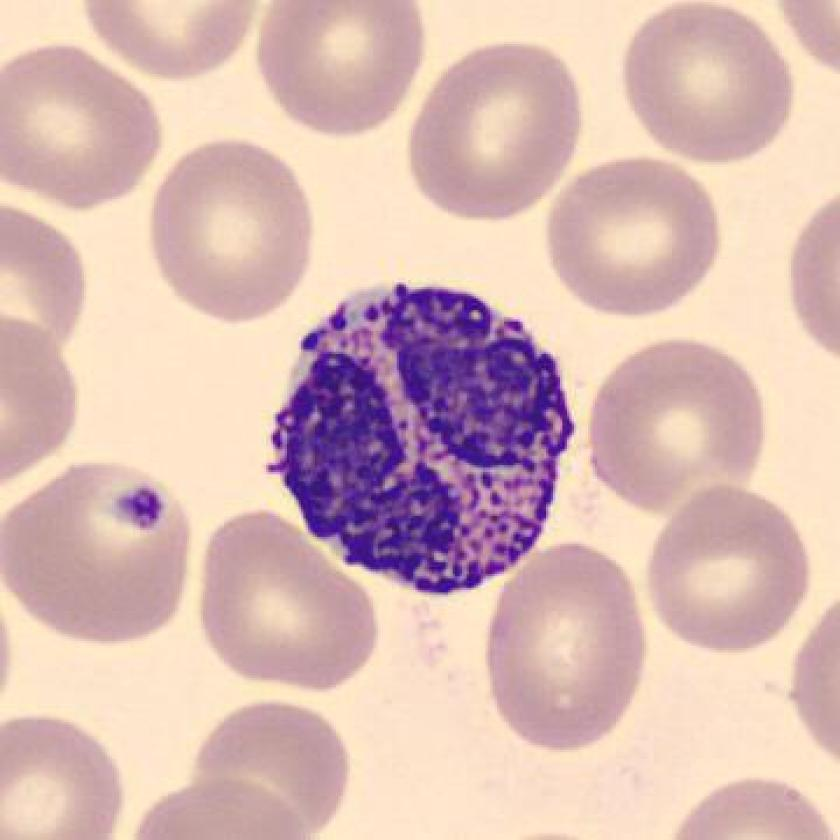basophil: (262, 270, 587, 603)
